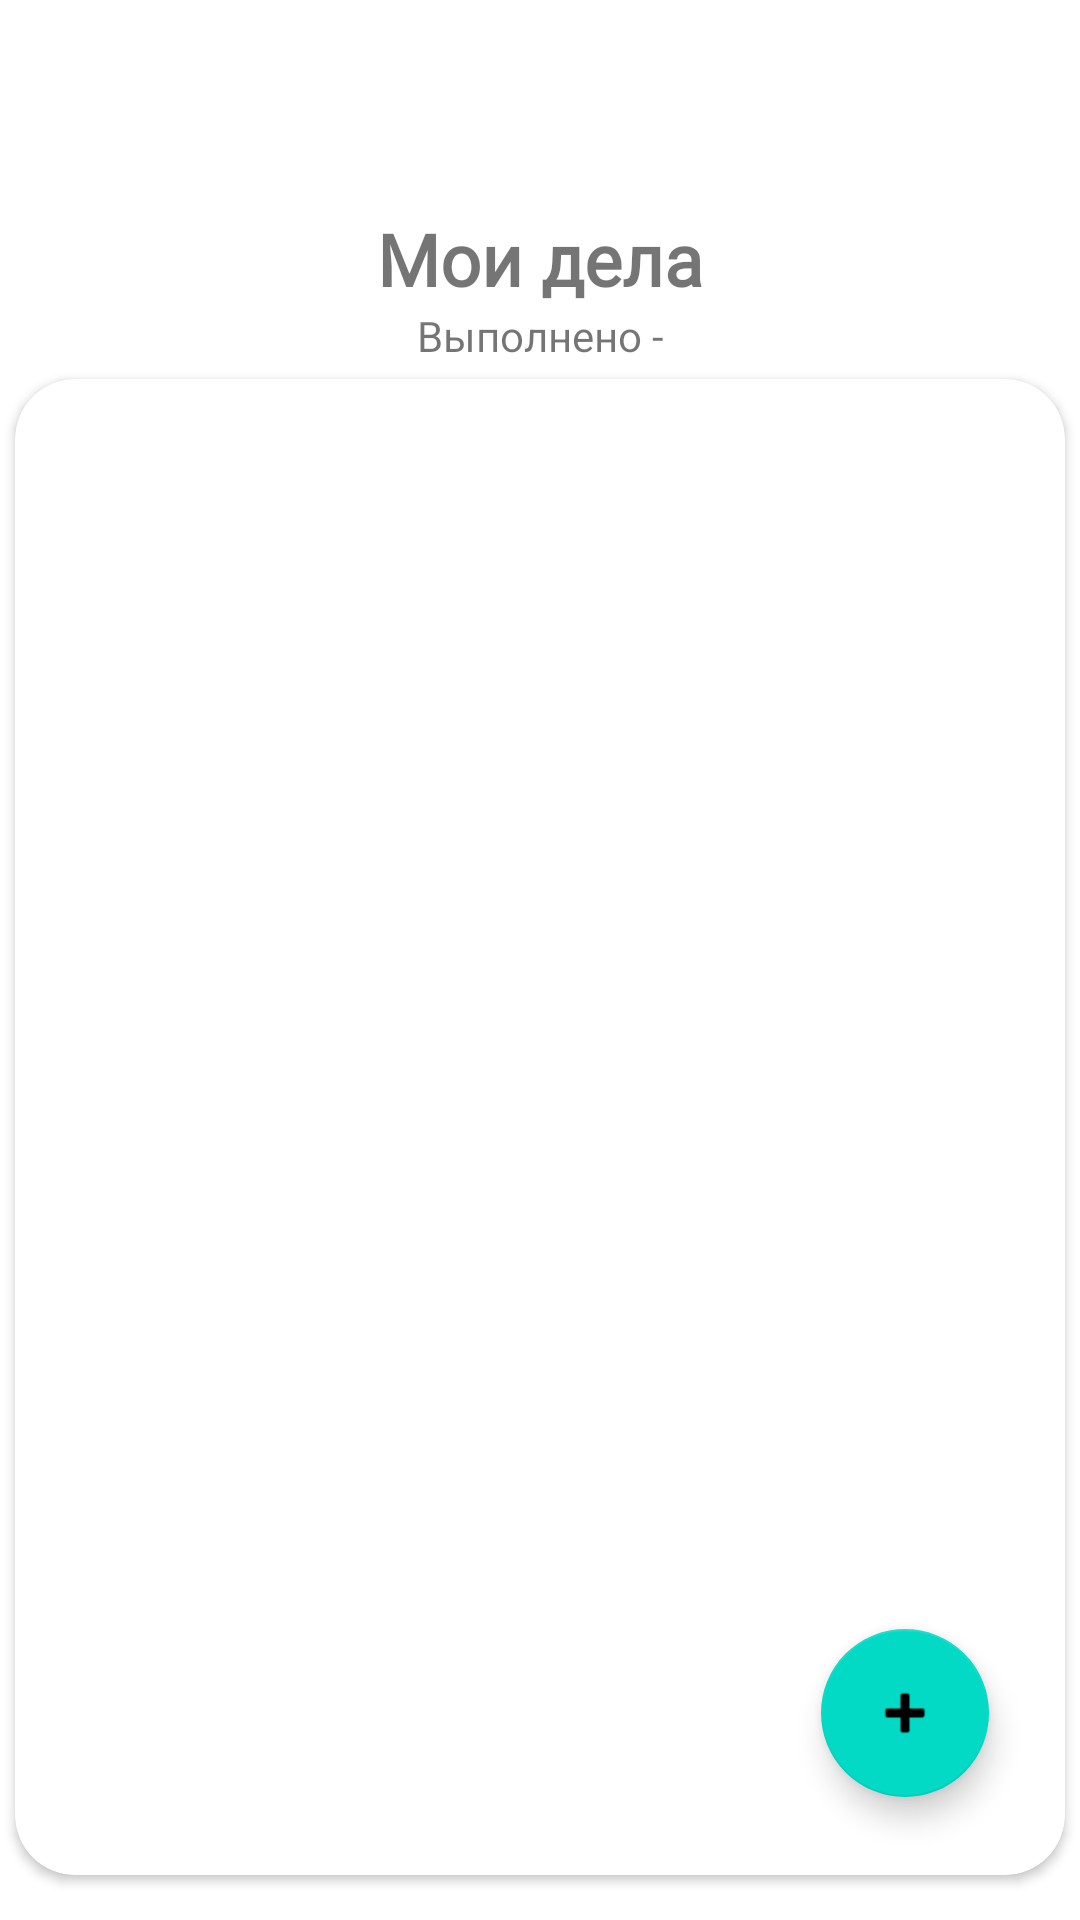

Screen size 1080w x 1920h. Icon name, then its center in pixels as (x,y):
add: (905,1713)
